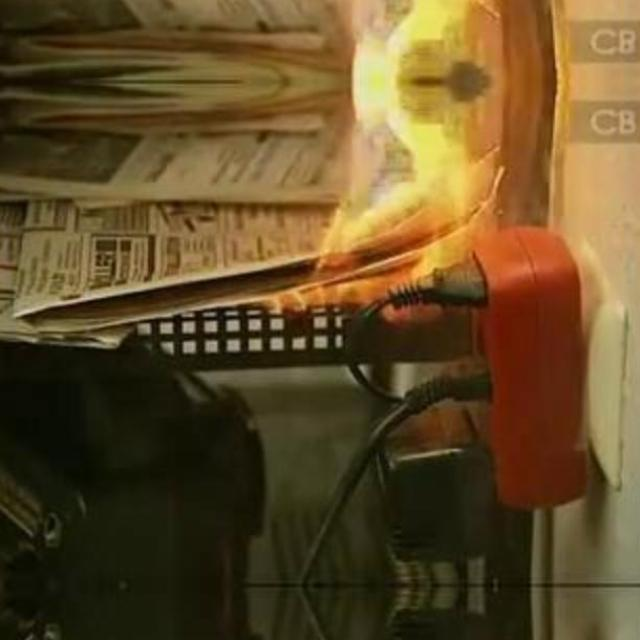smoke: (256, 0, 540, 315)
